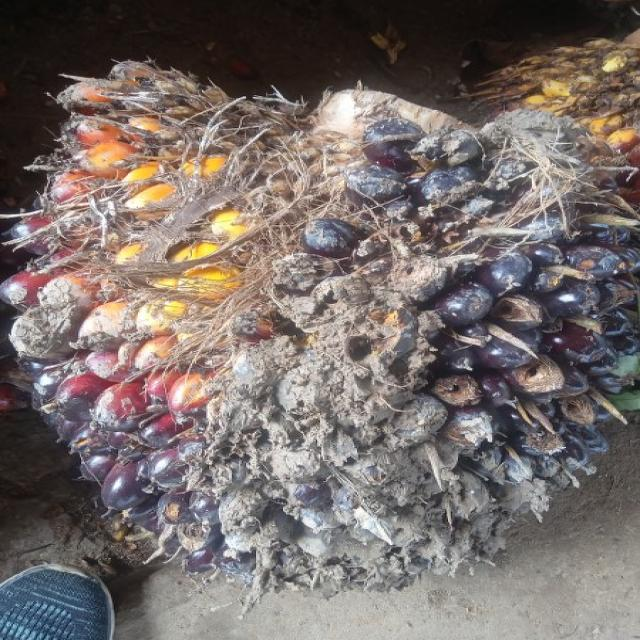fraksi 00: (0, 61, 640, 584)
